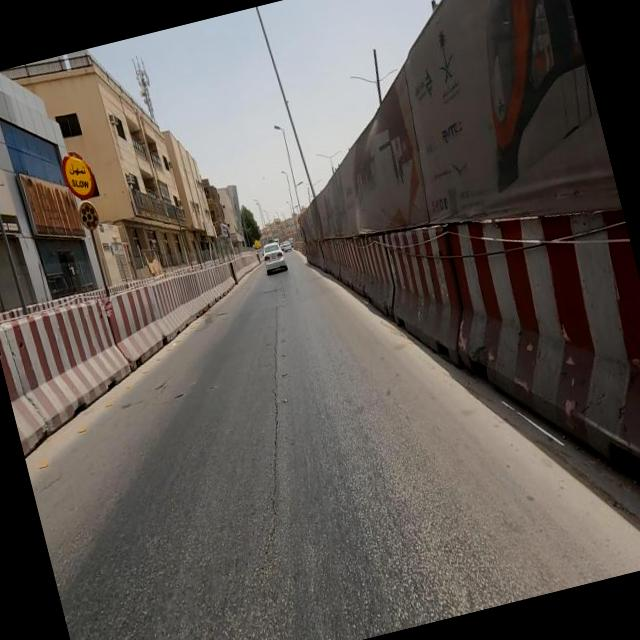debris: (277, 0, 640, 355), (244, 61, 493, 302)
